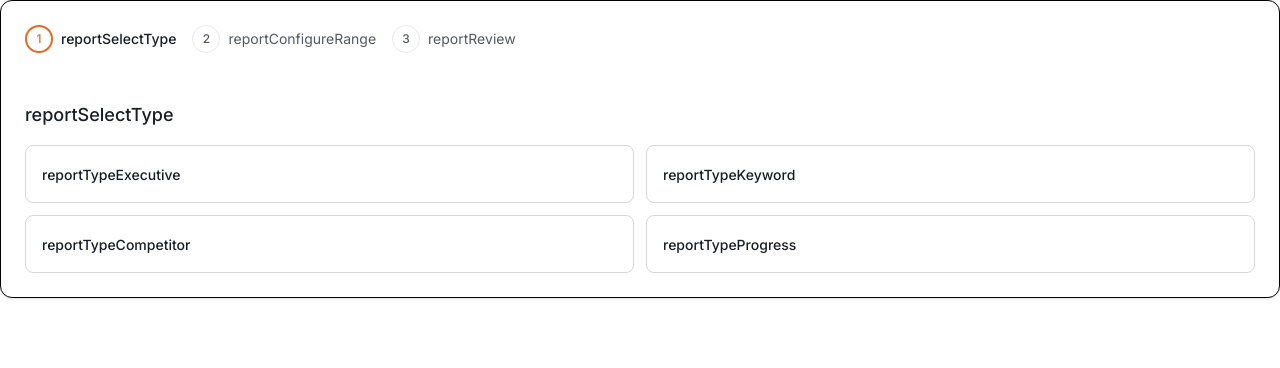
Test: ReportGenerationWizard › shows date range options after selecting a report type
Click the button "reportTypeExecutive": (111, 174) [25,145,634,203]
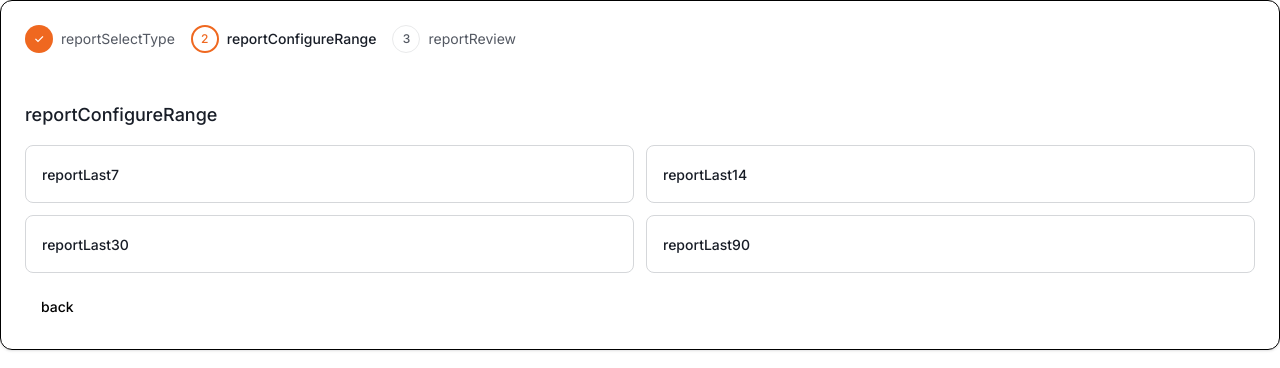
Expected: the text "reportLast7" is shown, [42,166,119,183]
Expected: the text "reportLast14" is shown, [663,166,747,183]
Expected: the text "reportLast30" is shown, [42,236,129,253]
